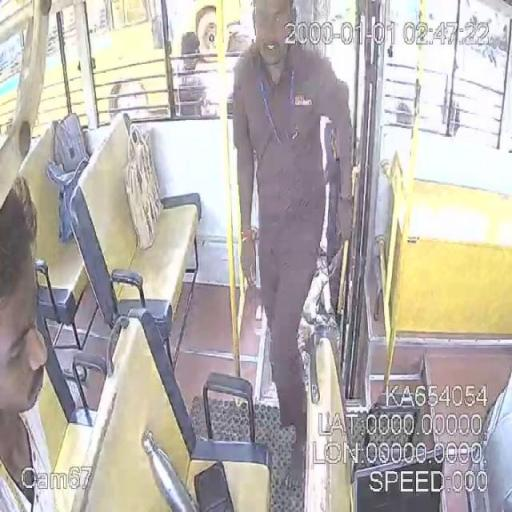persona: (230, 2, 356, 508), (0, 171, 56, 511)
